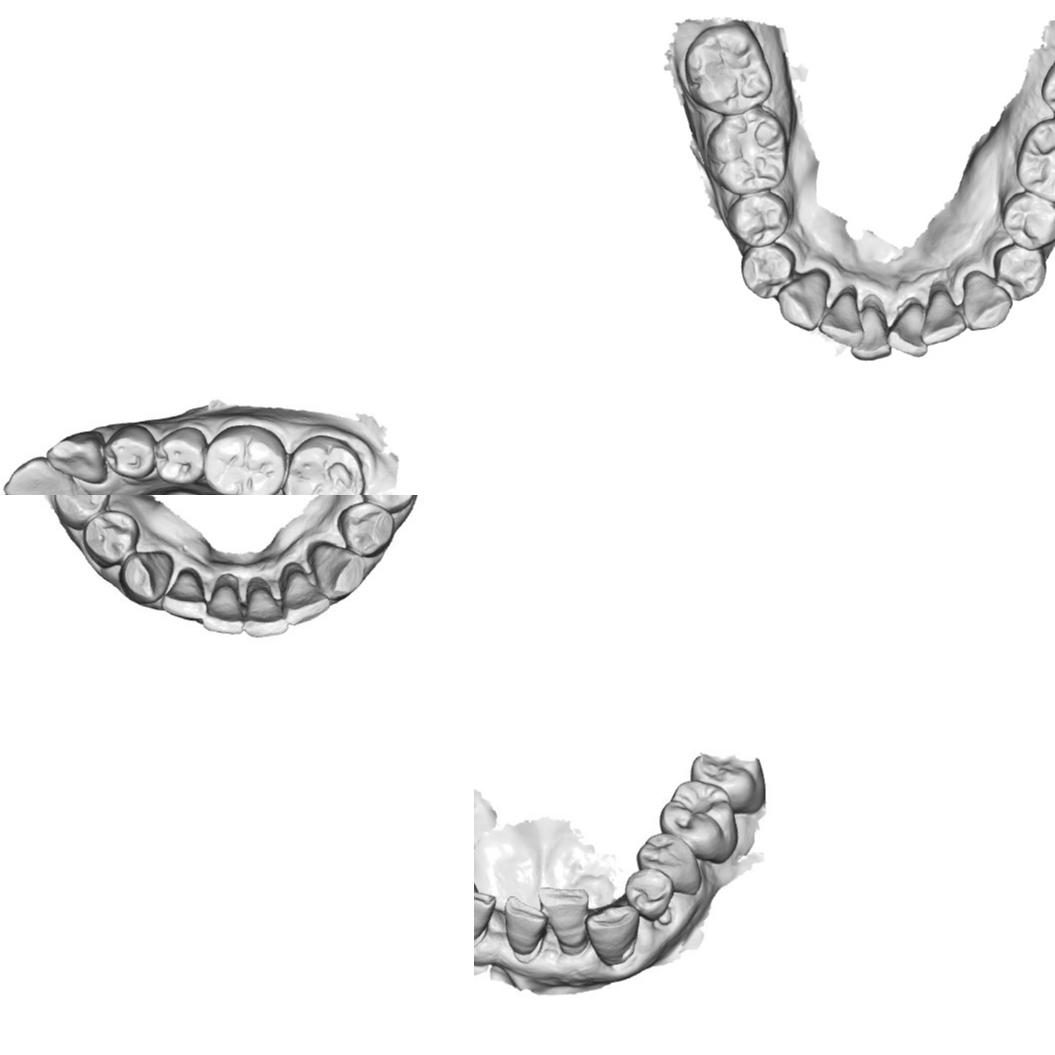canine: (776, 268, 832, 332), (306, 541, 366, 600), (116, 549, 175, 604), (961, 268, 1013, 330), (47, 431, 110, 481), (628, 871, 676, 922)
incisor: (540, 886, 595, 959), (281, 559, 332, 628), (587, 908, 639, 968), (3, 457, 82, 495), (818, 287, 865, 350), (241, 576, 288, 639), (504, 896, 548, 961), (918, 288, 968, 344), (160, 567, 210, 622), (200, 579, 245, 635), (849, 304, 892, 362), (886, 302, 928, 358), (474, 886, 494, 946)
molar: (682, 19, 774, 118), (704, 108, 790, 196), (206, 424, 287, 495), (661, 780, 734, 856), (284, 439, 360, 495), (1015, 113, 1055, 205)
premolar: (334, 497, 393, 557), (727, 191, 790, 247), (82, 510, 142, 568), (740, 240, 796, 300), (992, 242, 1048, 302), (1001, 191, 1055, 252), (645, 835, 701, 892), (157, 432, 205, 485), (106, 424, 150, 476), (55, 495, 113, 529), (356, 495, 420, 512)
